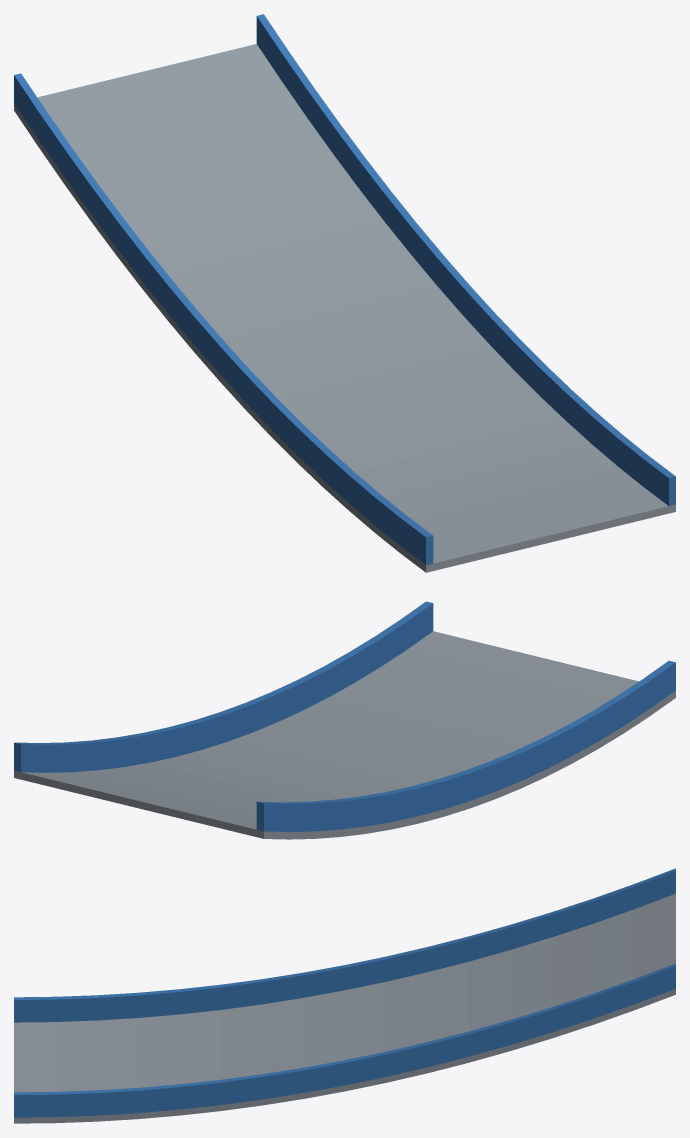
The model's file is ramp.glb.
3 views of the same model, one above another, from view 1: azimuth 30°, elevation 25°; view 2: azimuth 150°, elevation 25°; view 3: azimuth 270°, elevation 25° (orthographic). The views are drawn at different scales.
Visible parts, largest first — view 1: Ramp_deck, MESH_Team_Primary; view 2: Ramp_deck, MESH_Team_Primary; view 3: Ramp_deck, MESH_Team_Primary.
Part boxes in pixels (x1,y1,x2,y2): Ramp_deck: (14,44,675,572); MESH_Team_Primary: (14,14,675,565); Ramp_deck: (14,631,675,839); MESH_Team_Primary: (14,601,675,831); Ramp_deck: (14,893,675,1123); MESH_Team_Primary: (14,868,675,1117).
Size of the model in its own units: 0.7 by 0.525 by 2.
